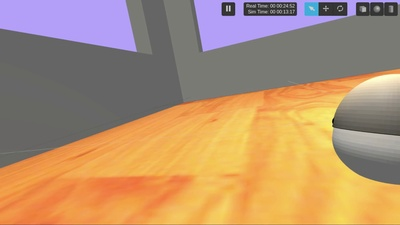mira_robot: (331, 72, 400, 185)
